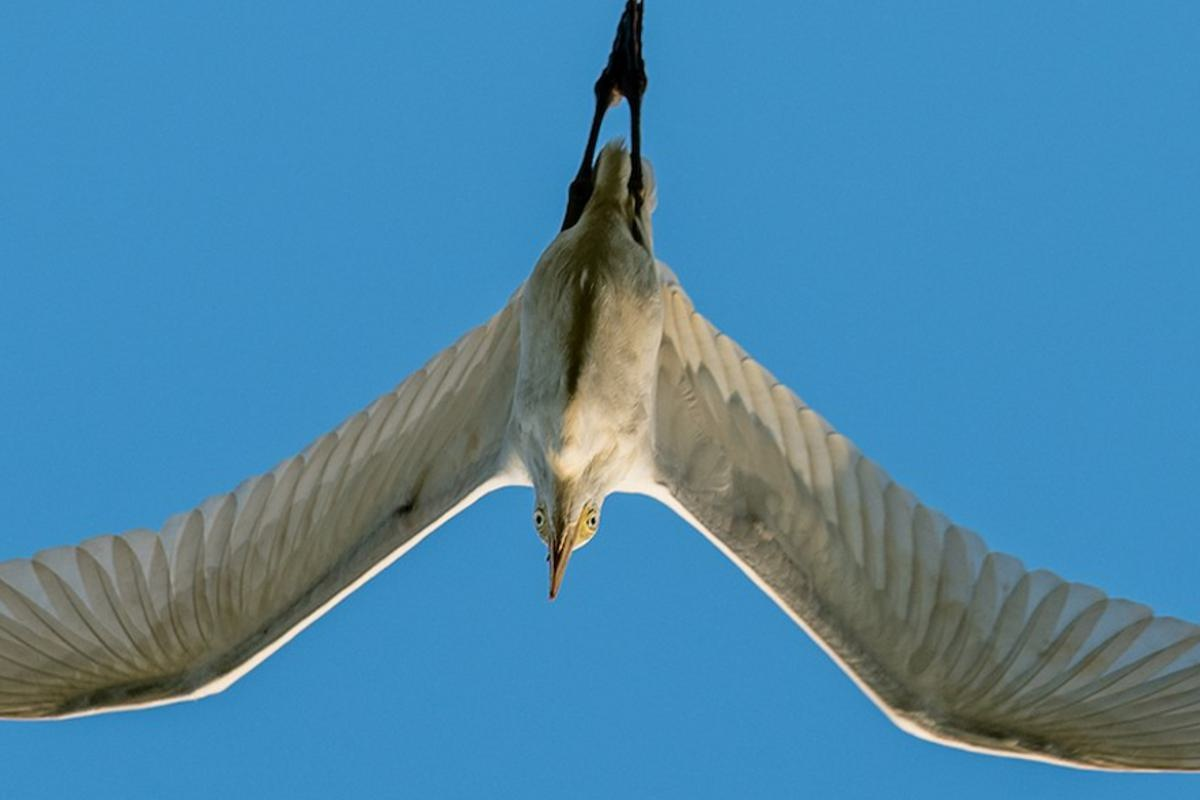egret: (15, 63, 1200, 755)
